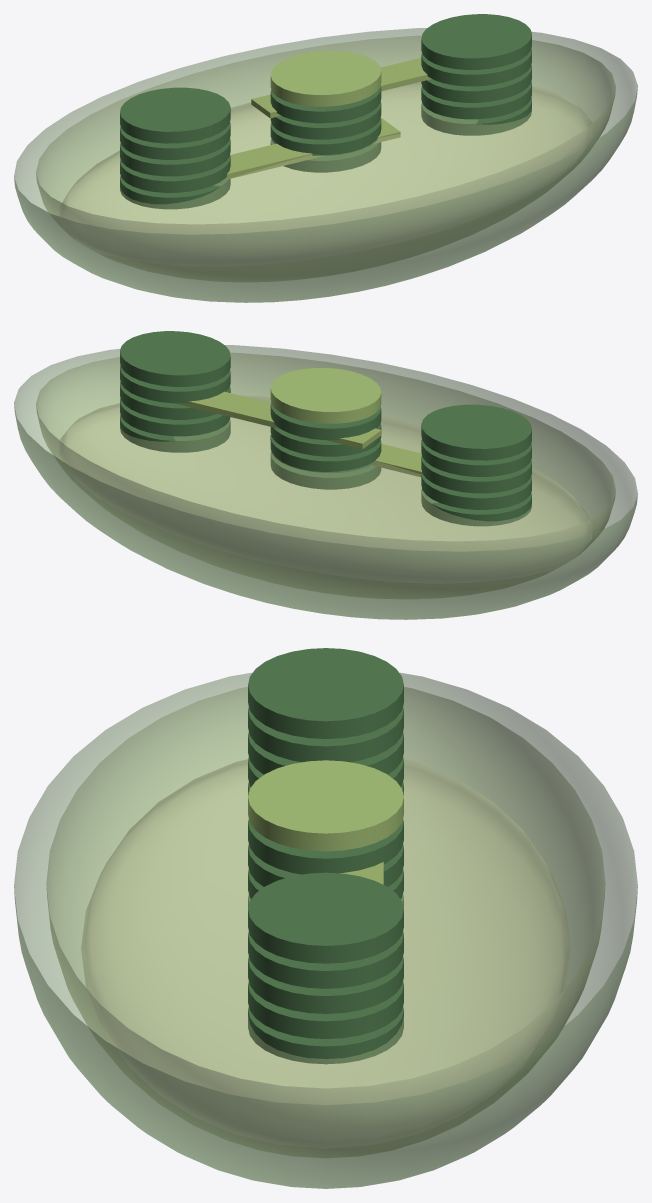
Rendered from chloroplast.glb.
The picture shows the model from 3 angles, top to bottom: view 1: azimuth 30°, elevation 25°; view 2: azimuth 150°, elevation 25°; view 3: azimuth 270°, elevation 25°; orthographic projection. The views are drawn at different scales.
Visible parts, largest first — view 1: inner-membrane-mesh-0, outer-membrane-mesh-0, stroma-mesh-0, thylakoid-mesh-0, granum-mesh-4, granum-mesh-13, lamella-mesh-0, granum-mesh-8, granum-mesh-3, granum-mesh-9, granum-mesh-10, granum-mesh-2 (+8 smaller); view 2: inner-membrane-mesh-0, outer-membrane-mesh-0, stroma-mesh-0, thylakoid-mesh-0, granum-mesh-4, granum-mesh-13, lamella-mesh-1, granum-mesh-3, granum-mesh-0, granum-mesh-9, granum-mesh-1, granum-mesh-2 (+8 smaller); view 3: inner-membrane-mesh-0, outer-membrane-mesh-0, stroma-mesh-0, granum-mesh-4, thylakoid-mesh-0, granum-mesh-13, granum-mesh-11, granum-mesh-10, granum-mesh-12, granum-mesh-9, granum-mesh-3, granum-mesh-8 (+2 smaller).
Boxes of the visible parts, x1,y1,x2,y2 form: inner-membrane-mesh-0: (36,35,615,281); outer-membrane-mesh-0: (14,28,637,302); stroma-mesh-0: (59,82,592,234); thylakoid-mesh-0: (270,51,381,106); granum-mesh-4: (120,87,230,143); granum-mesh-13: (421,14,531,69); lamella-mesh-0: (171,118,400,193); granum-mesh-8: (270,85,381,123); granum-mesh-3: (120,122,230,159); granum-mesh-9: (421,98,531,135); granum-mesh-10: (421,81,531,119); granum-mesh-2: (120,139,230,176); inner-membrane-mesh-0: (36,352,615,598); outer-membrane-mesh-0: (14,345,637,619); stroma-mesh-0: (59,395,592,551); thylakoid-mesh-0: (270,368,381,423); granum-mesh-4: (421,404,531,460); granum-mesh-13: (120,331,230,386); lamella-mesh-1: (175,391,381,449); granum-mesh-3: (421,439,531,476); granum-mesh-0: (421,489,531,526); granum-mesh-9: (120,415,230,452); granum-mesh-1: (421,472,531,509); granum-mesh-2: (421,456,531,493); inner-membrane-mesh-0: (46,687,605,1157); outer-membrane-mesh-0: (14,672,637,1188); stroma-mesh-0: (81,759,570,1144); granum-mesh-4: (248,648,403,738); thylakoid-mesh-0: (248,760,403,851); granum-mesh-13: (248,872,403,963); granum-mesh-11: (248,956,403,1013); granum-mesh-10: (248,981,403,1038); granum-mesh-12: (248,931,403,988); granum-mesh-9: (248,1006,403,1064); granum-mesh-3: (248,706,403,762); granum-mesh-8: (248,819,403,874).
Size of the model in its own units: 9 by 2.85 by 5.4.
